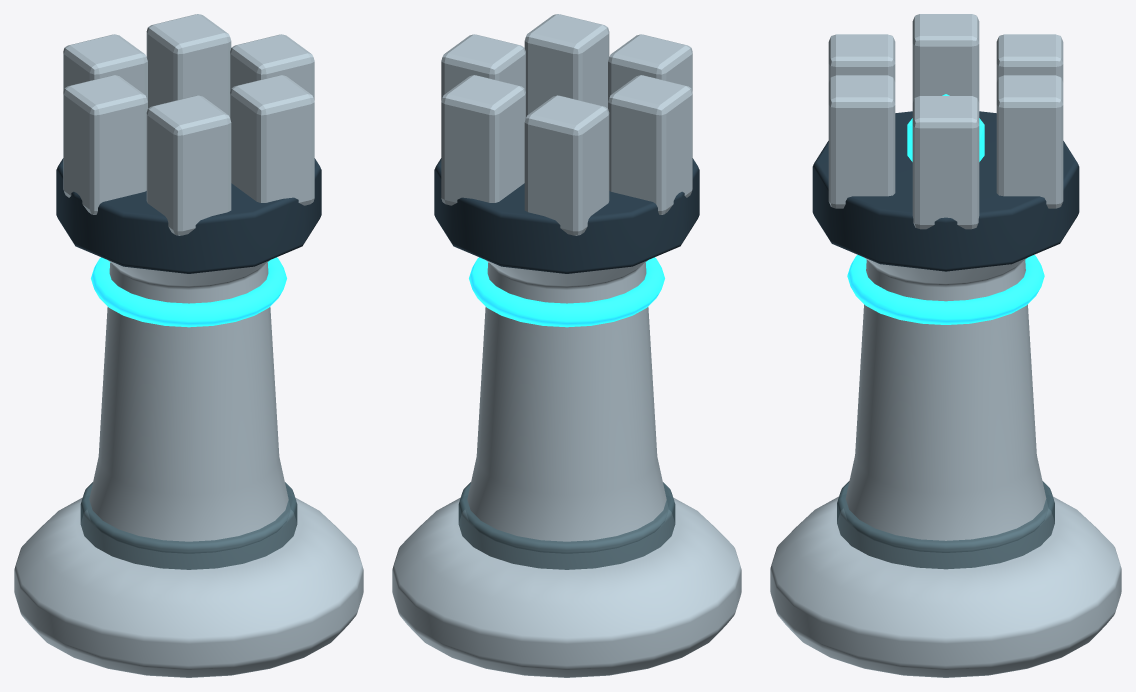
3 renders of one model, left to right at view 1: azimuth 30°, elevation 25°; view 2: azimuth 150°, elevation 25°; view 3: azimuth 270°, elevation 25°, orthographic.
Visible parts, largest first — view 1: SciFi_r_w; view 2: SciFi_r_w; view 3: SciFi_r_w.
Part boxes in pixels (bbox=[...]): SciFi_r_w: bbox=[14, 14, 363, 677]; SciFi_r_w: bbox=[392, 14, 741, 677]; SciFi_r_w: bbox=[770, 14, 1121, 677].
Bounding box in the file's own units: 0.58 × 0.99 × 0.58.
